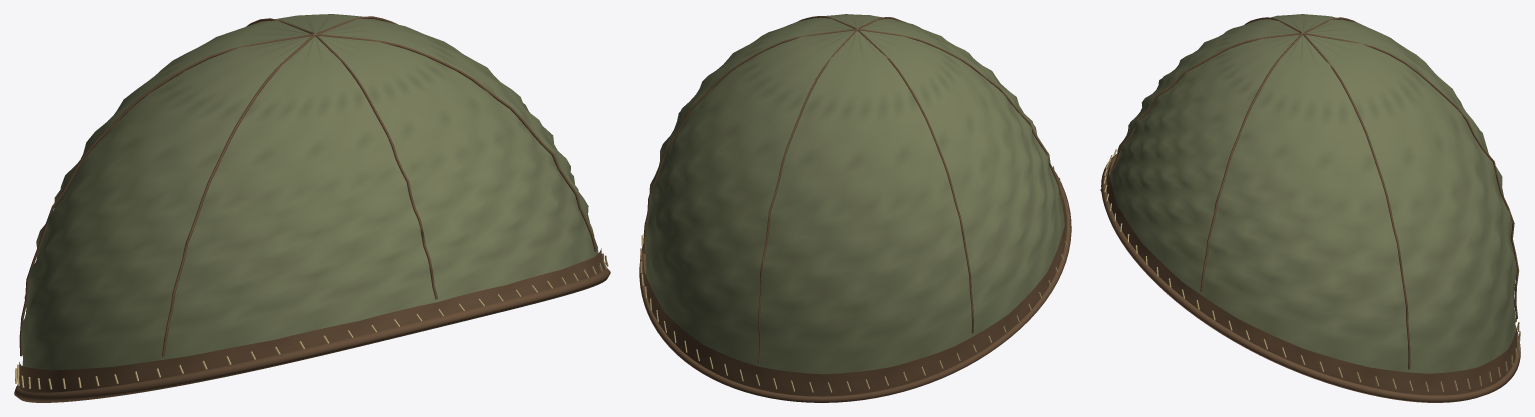
File: padded_cap.glb
3 views of the same model, side by side, from view 1: azimuth 30°, elevation 25°; view 2: azimuth 150°, elevation 25°; view 3: azimuth 270°, elevation 25° (orthographic). The views are drawn at different scales.
Visible parts, largest first — view 1: padded_cap: moss flax quilted cloth, padded_cap: bound russet leather, padded_cap: waxed linen stitching; view 2: padded_cap: moss flax quilted cloth, padded_cap: bound russet leather, padded_cap: waxed linen stitching; view 3: padded_cap: moss flax quilted cloth, padded_cap: bound russet leather, padded_cap: waxed linen stitching.
Part boxes in pixels (x1,y1,x2,y2): padded_cap: moss flax quilted cloth: (21, 14, 598, 370); padded_cap: bound russet leather: (14, 16, 610, 402); padded_cap: waxed linen stitching: (15, 253, 608, 389); padded_cap: moss flax quilted cloth: (644, 14, 1064, 374); padded_cap: bound russet leather: (639, 16, 1071, 402); padded_cap: waxed linen stitching: (640, 166, 1069, 392); padded_cap: moss flax quilted cloth: (1109, 14, 1517, 373); padded_cap: bound russet leather: (1100, 17, 1520, 402); padded_cap: waxed linen stitching: (1103, 149, 1520, 391).
Size of the model in its own units: 0.549 by 0.4002 by 0.4743.
